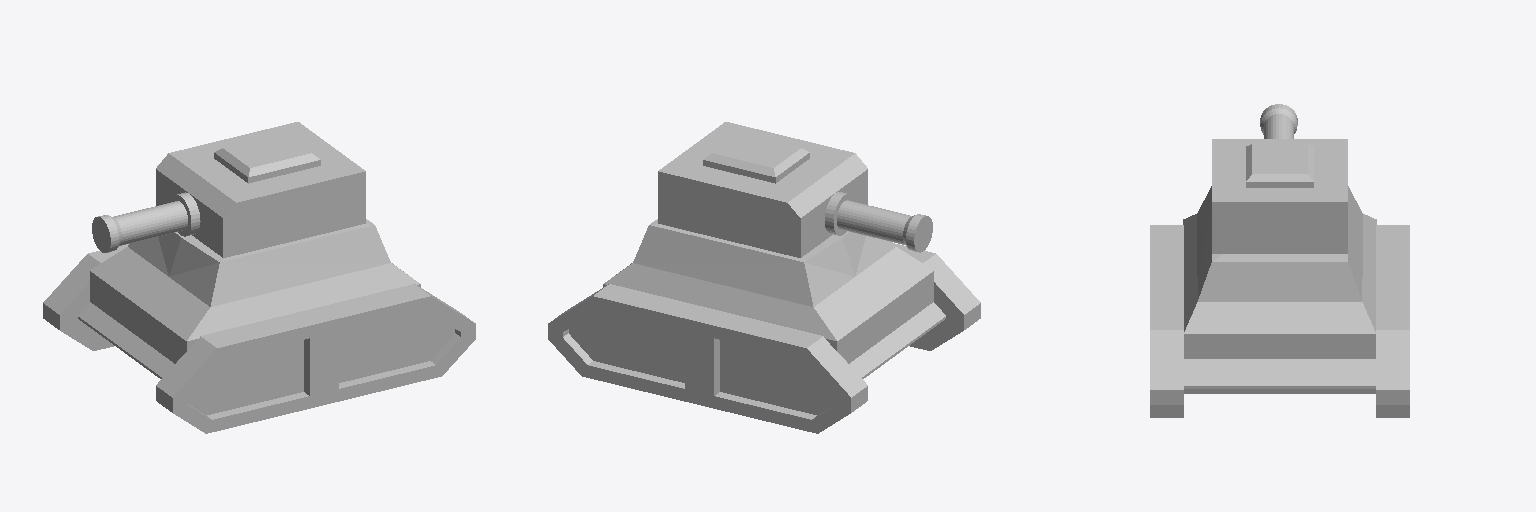
Rendered from Tank2.obj.
3 views of the same model, side by side, from view 1: azimuth 30°, elevation 25°; view 2: azimuth 150°, elevation 25°; view 3: azimuth 270°, elevation 25° (orthographic).
Parts seen in each view (by area): view 1: Cube.001, Cube.002, Circle; view 2: Cube.001, Cube.002, Circle; view 3: Cube.001, Cube.002, Circle.
Part boxes in pixels (left/top/right/bottom): Cube.001: left=90, top=122, right=420, bottom=363; Cube.002: left=43, top=244, right=475, bottom=433; Circle: left=92, top=192, right=200, bottom=252; Cube.001: left=603, top=122, right=933, bottom=363; Cube.002: left=548, top=243, right=980, bottom=433; Circle: left=825, top=192, right=932, bottom=252; Cube.001: left=1183, top=139, right=1376, bottom=358; Cube.002: left=1150, top=225, right=1409, bottom=417; Circle: left=1260, top=104, right=1297, bottom=138.
Size of the model in its own units: 2.35 by 1.48 by 1.7.